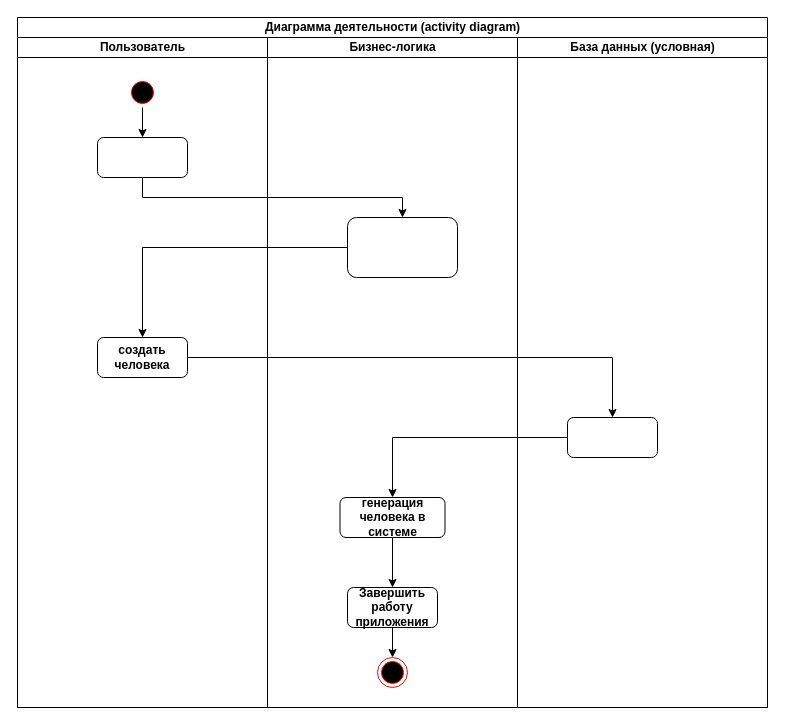
Some shapes in this 785 by 725 pixel diagram are drawn without their labels. The shapes that lost their labels are listed below. From the top down, each one's centre as x and y in pixels, then its label:
At pixel 142 157: "Запуск программы".
At pixel 402 247: "Отображение окна управления".
At pixel 612 437: "изменить состояние".
